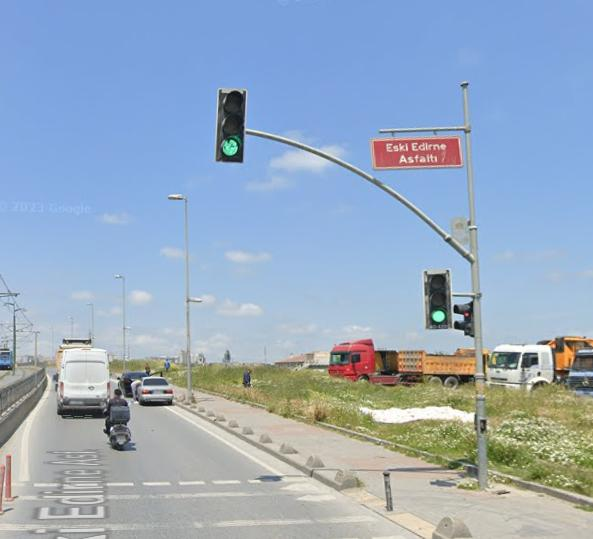greenlight: (214, 90, 246, 162), (425, 273, 451, 327)
